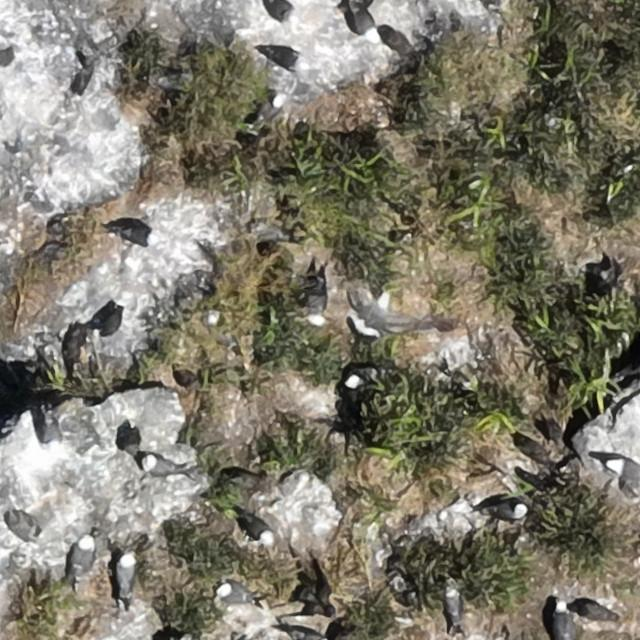F: (345, 290, 396, 337)
umineko: (306, 267, 334, 327), (116, 221, 161, 248), (352, 8, 378, 40), (263, 47, 301, 68), (117, 554, 136, 594), (246, 516, 275, 542), (607, 460, 640, 481), (552, 605, 571, 640), (490, 502, 526, 520), (73, 538, 91, 574), (218, 583, 252, 602), (144, 458, 177, 476), (256, 98, 282, 120), (445, 586, 460, 624), (265, 0, 290, 20), (44, 419, 60, 450), (344, 370, 372, 387)
